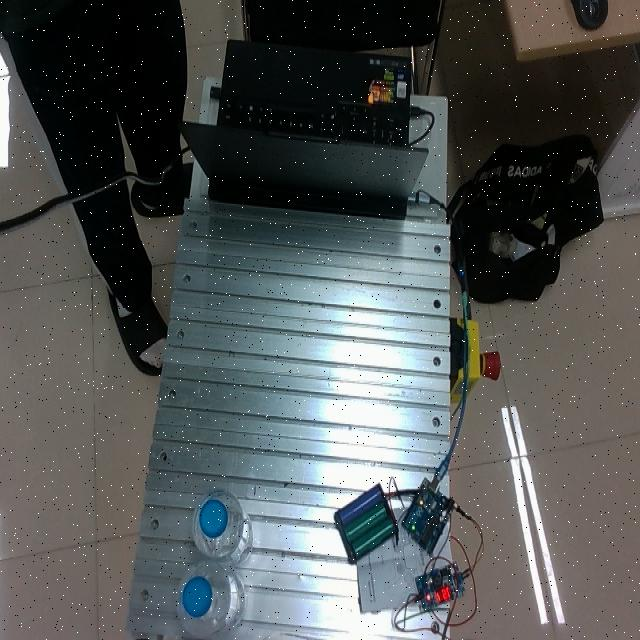lavie: (177, 559, 247, 637), (191, 488, 253, 567)
